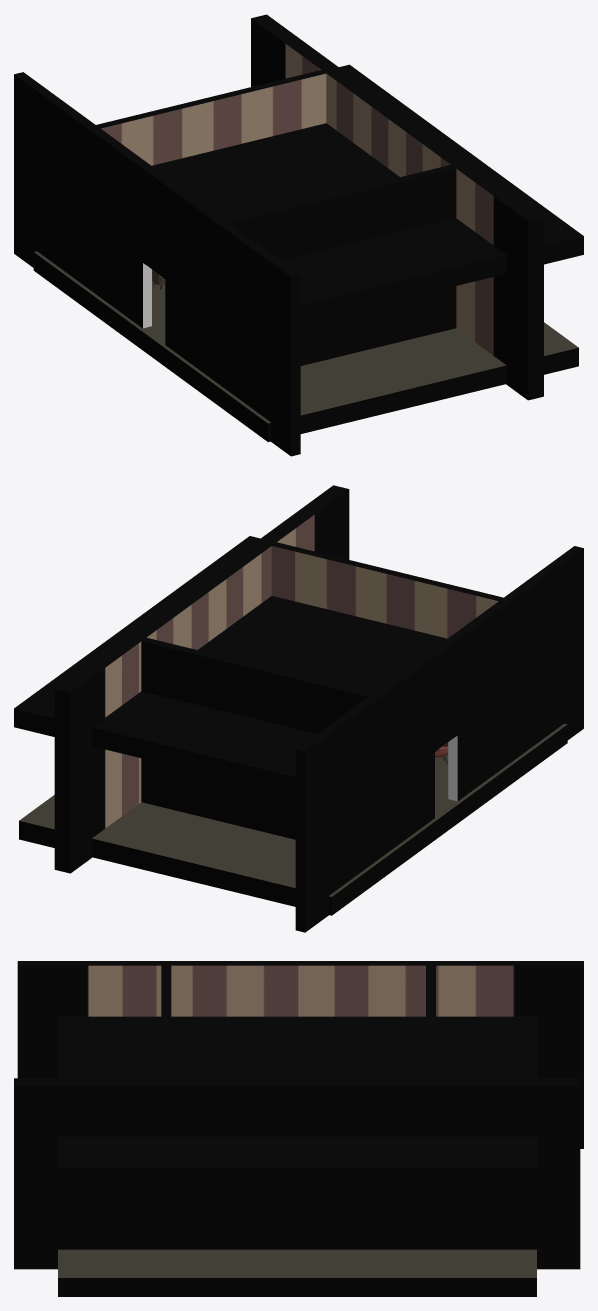
The model's file is Room2.fbx.
3 views of the same model, one above another, from view 1: azimuth 30°, elevation 25°; view 2: azimuth 150°, elevation 25°; view 3: azimuth 270°, elevation 25° (orthographic). The views are drawn at different scales.
Parts seen in each view (by area): view 1: Room Material; view 2: Room Material, None.001; view 3: Room Material.
Boxes of the visible parts, bbox=[...] form: Room Material: bbox=[14, 14, 583, 456]; Room Material: bbox=[14, 485, 583, 932]; None.001: bbox=[448, 736, 457, 801]; Room Material: bbox=[14, 961, 583, 1296].
Bounding box in the file's own units: 1795 × 974 × 2745.
Materials: 6 (6 with a texture image).
